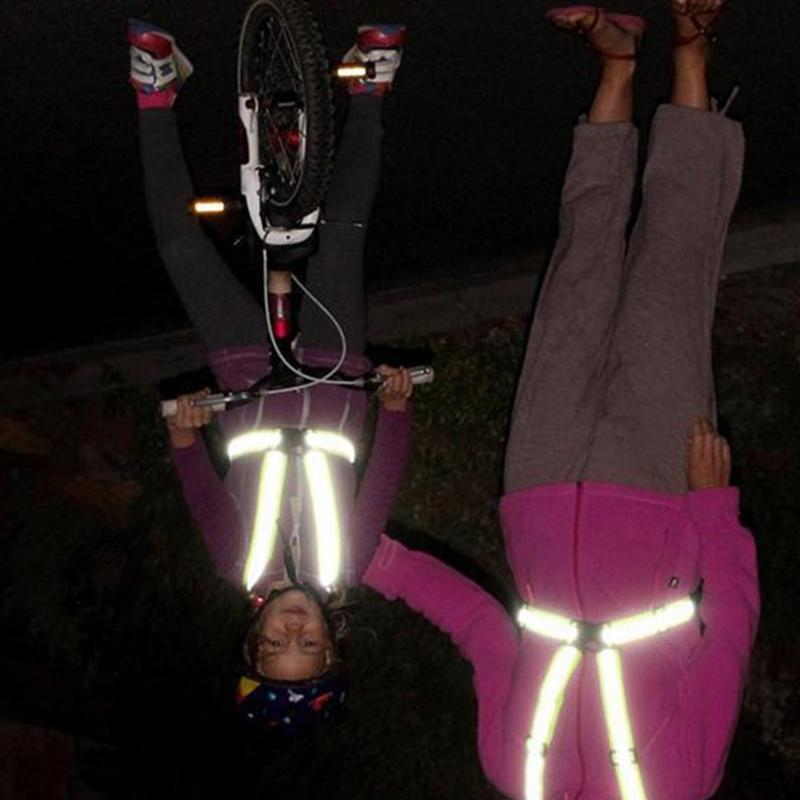Vest: (503, 590, 695, 800), (220, 423, 362, 598)
